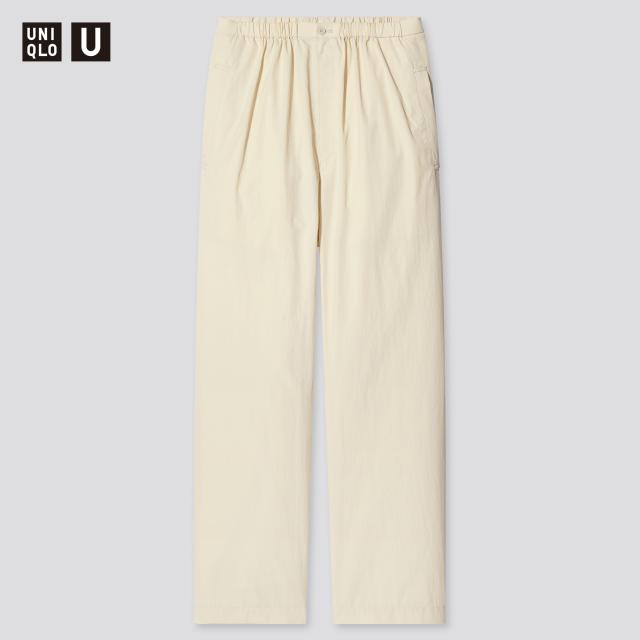long-pants: (191, 15, 450, 631)
